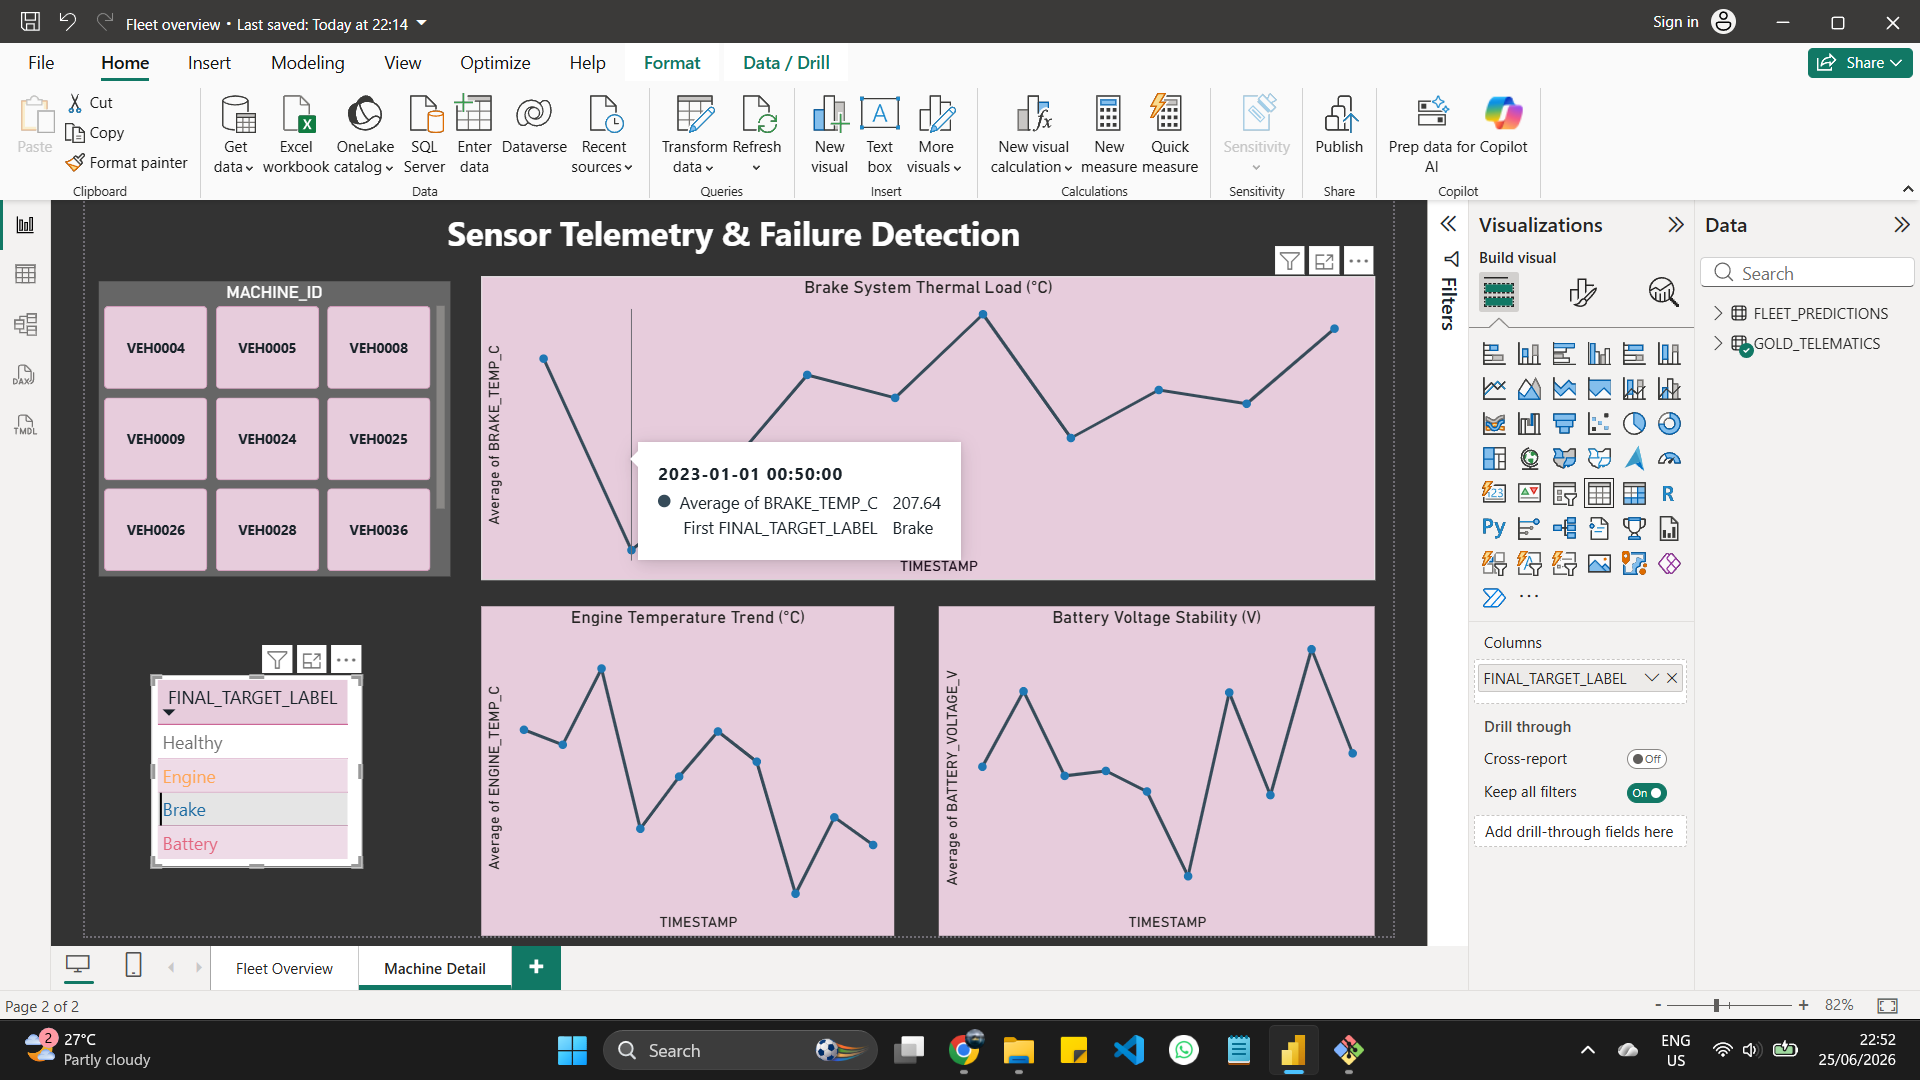

Layout of this report page (visuals, bound fields, positions):
{"tool":"powerbi","page":{"name":"Machine Detail","canvas":[1280,720],"ordinal":1},"visuals":[{"type":"advancedSlicerVisual","fields":{"Values":["GOLD_TELEMATICS.MACHINE_ID"]},"box":[13.8,80,343.8,288.8],"z":0},{"type":"lineChart","title":"Engine Temperature Trend (°C)","fields":{"Category":["GOLD_TELEMATICS.TIMESTAMP"],"Y":["Avg(GOLD_TELEMATICS.ENGINE_TEMP_C)"]},"box":[387.5,397.5,403.8,322.5],"z":1000},{"type":"lineChart","title":"Battery Voltage Stability (V)","fields":{"Category":["GOLD_TELEMATICS.TIMESTAMP"],"Y":["Avg(GOLD_TELEMATICS.BATTERY_VOLTAGE_V)"]},"box":[835,397.5,426.2,322.5],"z":2000},{"type":"tableEx","fields":{"Values":["GOLD_TELEMATICS.FINAL_TARGET_LABEL"]},"box":[65,465,206.2,187.5],"z":3000},{"type":"lineChart","title":"Brake System Thermal Load (°C)","fields":{"Category":["GOLD_TELEMATICS.TIMESTAMP"],"Y":["Avg(GOLD_TELEMATICS.BRAKE_TEMP_C)"]},"box":[387.5,75,873.8,296.2],"z":4000},{"type":"textbox","box":[240,0,790,63.8],"z":5000}]}

Visuals, with their boxes on the page's 1280x720 design canvas (x1, y1, x2, y2). These are canvas units, not pixel positions in the 1920x1080 screenshot, which may show the page scaled, cropped or inside an application window:
advancedSlicerVisual - GOLD_TELEMATICS.MACHINE_ID: box=[14, 80, 358, 369]
"Engine Temperature Trend (°C)" lineChart: box=[388, 398, 791, 720]
"Battery Voltage Stability (V)" lineChart: box=[835, 398, 1261, 720]
tableEx - GOLD_TELEMATICS.FINAL_TARGET_LABEL: box=[65, 465, 271, 652]
"Brake System Thermal Load (°C)" lineChart: box=[388, 75, 1261, 371]
textbox: box=[240, 0, 1030, 64]
